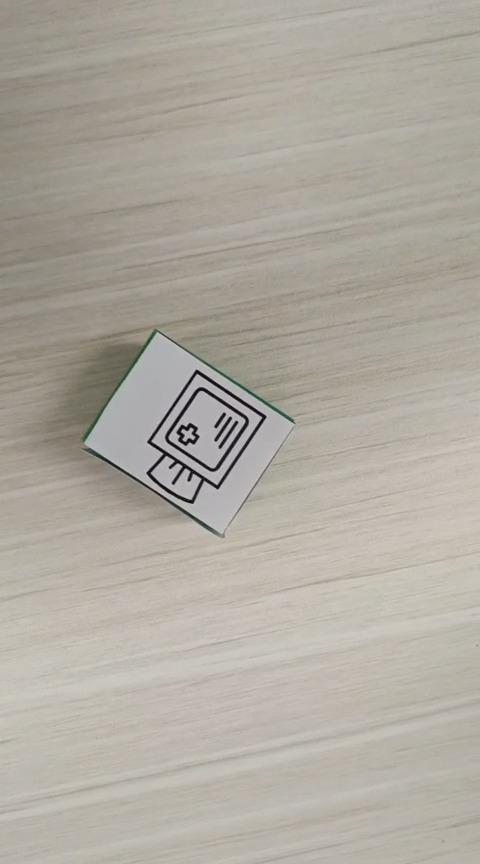Gauze: (80, 326, 296, 538)
